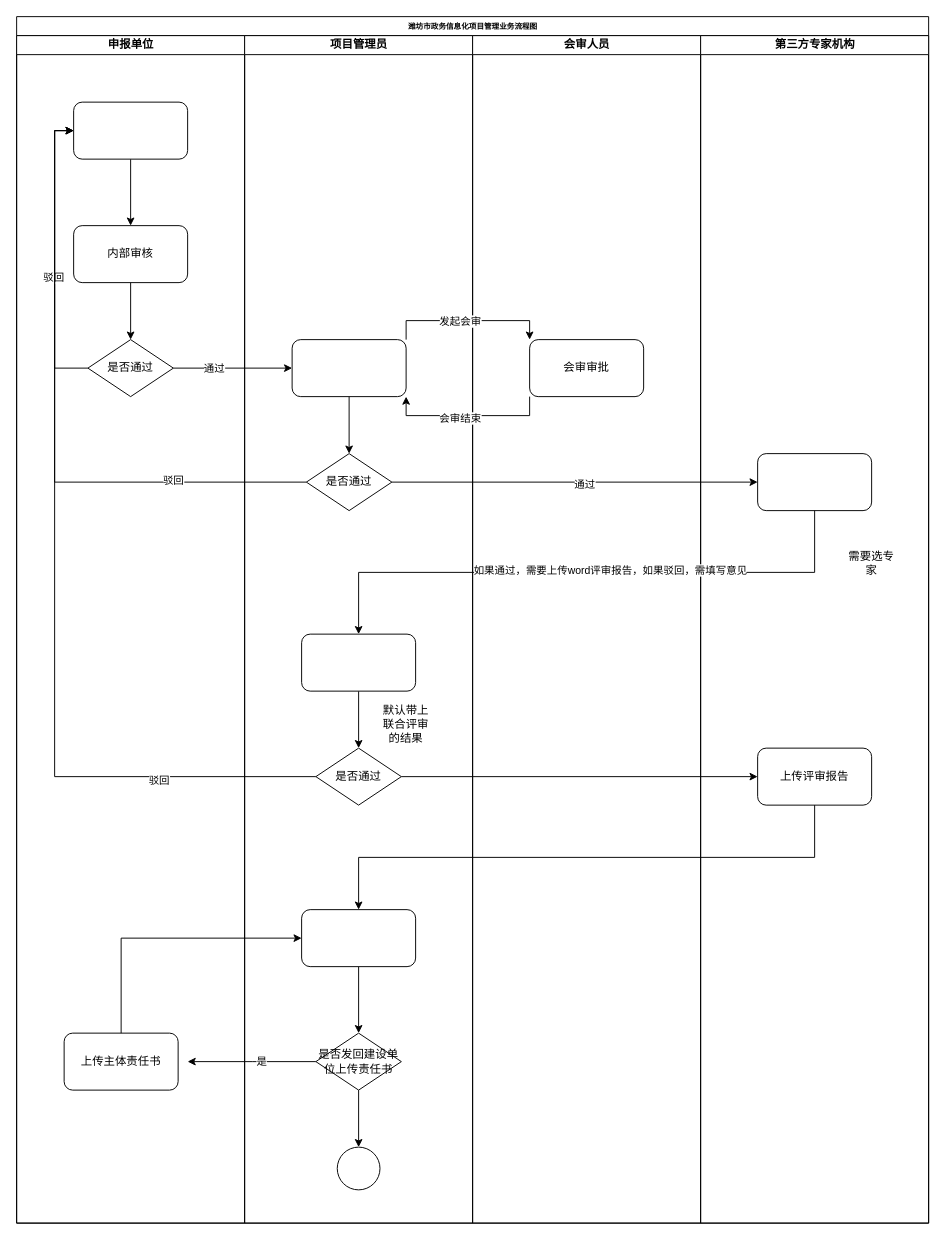
Image size: 945x1240. Some labels were removed from this diagram. The centre of each missing label's shape, as x and y in pixels:
"申报单位申报" belongs at (x=130, y=130).
"结束" belongs at (x=358, y=1168).
"联合评审" belongs at (x=814, y=482).
"评审确认" belongs at (x=358, y=662).
"项目初审" belongs at (x=348, y=368).
"项目批复" belongs at (x=358, y=938).
